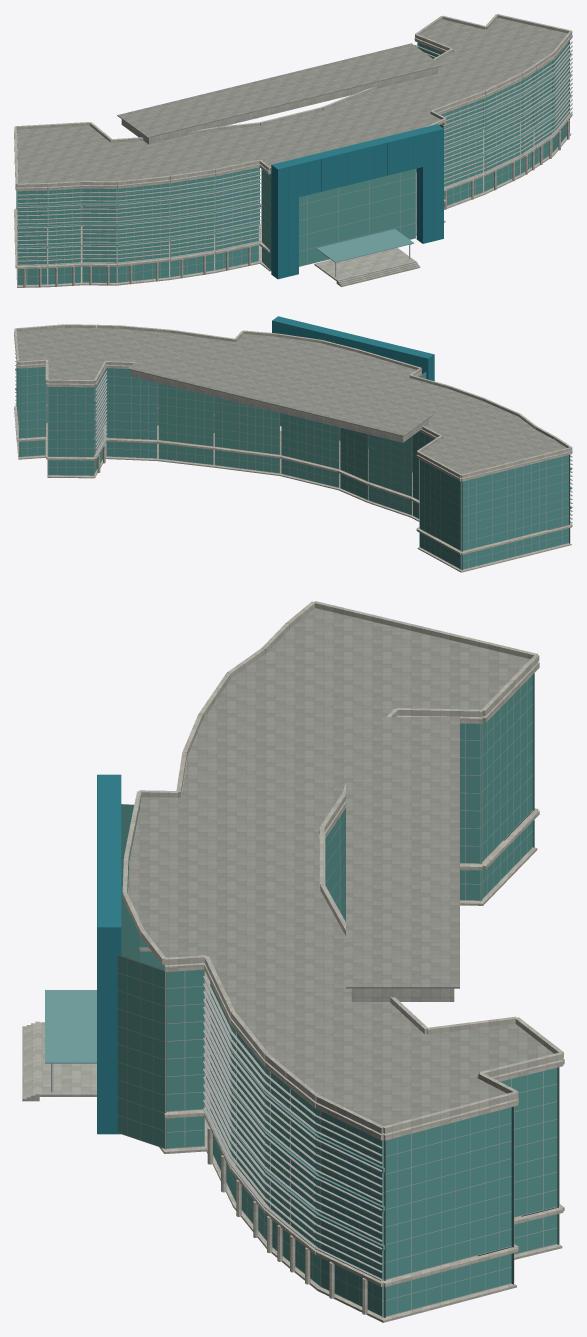
The picture shows the model from 3 angles, top to bottom: view 1: azimuth 30°, elevation 25°; view 2: azimuth 150°, elevation 25°; view 3: azimuth 270°, elevation 25°; orthographic projection. The views are drawn at different scales.
Visible parts, largest first — view 1: osm135973462__roof, osm135973462__glass, osm135973462__frame, osm135973462__portal, osm135973462__stone, osm135973462__spandrel, osm135973462__wall, osm135973462__glass-canopy, osm135973462__threshold-main, osm135973462__stair-main, osm135973462__portalJoint; view 2: osm135973462__glass, osm135973462__roof, osm135973462__frame, osm135973462__stone, osm135973462__portal, osm135973462__wall; view 3: osm135973462__roof, osm135973462__glass, osm135973462__frame, osm135973462__stone, osm135973462__portal, osm135973462__glass-canopy, osm135973462__spandrel, osm135973462__threshold-main, osm135973462__wall, osm135973462__stair-main.
Part boxes in pixels (box(x1,y1,x2,y2)): osm135973462__roof: box(17, 18, 567, 186); osm135973462__glass: box(16, 41, 569, 284); osm135973462__frame: box(17, 41, 572, 285); osm135973462__portal: box(271, 124, 443, 279); osm135973462__stone: box(14, 14, 572, 287); osm135973462__spandrel: box(17, 53, 571, 249); osm135973462__wall: box(121, 67, 437, 144); osm135973462__glass-canopy: box(316, 229, 414, 262); osm135973462__threshold-main: box(314, 247, 414, 280); osm135973462__stair-main: box(336, 261, 420, 286); osm135973462__portalJoint: box(277, 132, 443, 278); osm135973462__glass: box(16, 363, 569, 569); osm135973462__roof: box(17, 327, 566, 474); osm135973462__frame: box(15, 353, 572, 569); osm135973462__stone: box(14, 324, 572, 572); osm135973462__portal: box(272, 316, 434, 425); osm135973462__wall: box(131, 370, 428, 442); osm135973462__roof: box(128, 608, 553, 1126); osm135973462__glass: box(117, 673, 558, 1317); osm135973462__frame: box(117, 681, 559, 1317); osm135973462__stone: box(122, 601, 564, 1322); osm135973462__portal: box(97, 774, 121, 1134); osm135973462__glass-canopy: box(45, 990, 96, 1063); osm135973462__spandrel: box(206, 997, 384, 1250); osm135973462__threshold-main: box(39, 1022, 96, 1096); osm135973462__wall: box(351, 988, 454, 1001); osm135973462__stair-main: box(22, 1021, 39, 1101).
Size of the model in its own units: 109 by 20.7 by 47.47.
Materials: 12 (5 with a texture image).
